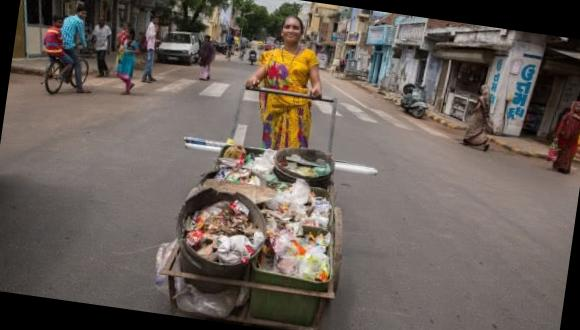trash: (259, 180, 331, 282), (183, 199, 265, 265), (243, 148, 277, 175), (215, 167, 261, 186), (223, 144, 246, 160)
